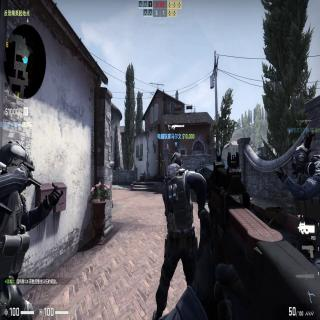CT-Head: (292, 144, 314, 180), (170, 151, 182, 167)
